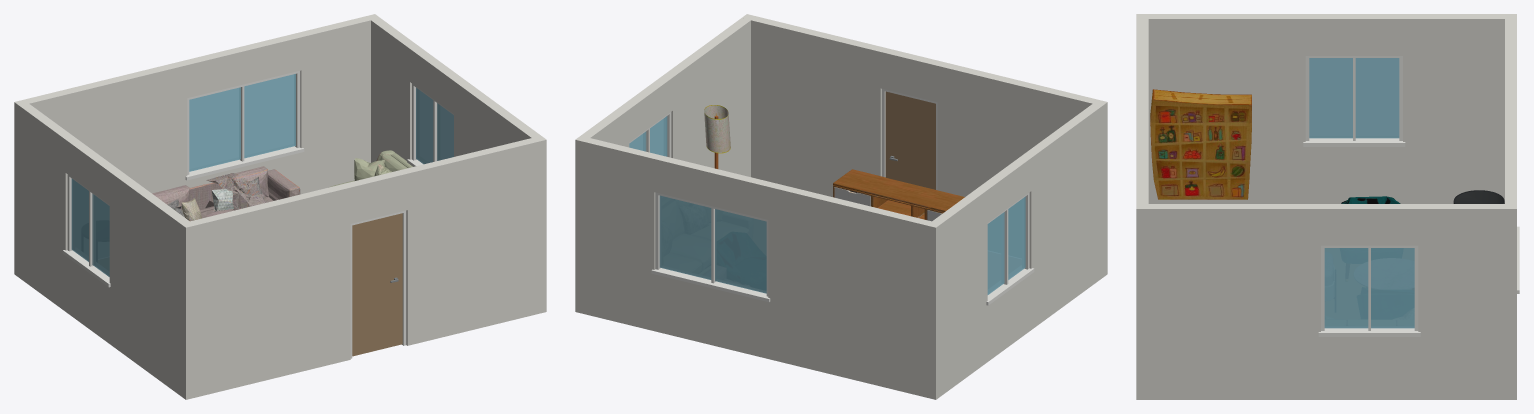
File: holodeck.glb
3 views of the same model, side by side, from view 1: azimuth 30°, elevation 25°; view 2: azimuth 150°, elevation 25°; view 3: azimuth 270°, elevation 25° (orthographic). The views are drawn at different scales.
Visible parts, largest first — view 1: wall|scenesmith_010__R00|0, wall|scenesmith_010__R00|1, wall|scenesmith_010__R00|2, wall|scenesmith_010__R00|3, wall|scenesmith_010__R00|1 Window 0 | glazing, wall|scenesmith_010__R00|0 Door 0 | wood leaf, scenesmith_010__R00_0, wall|scenesmith_010__R00|2 Window 0 | glazing, wall|scenesmith_010__R00|1 Window 0 | jamb, wall|scenesmith_010__R00|3 Window 0 | glazing, wall|scenesmith_010__R00|2 Window 0 | jamb, wall|scenesmith_010__R00|0 Door 0 | jamb (+2 smaller); view 2: wall|scenesmith_010__R00|1, wall|scenesmith_010__R00|0, wall|scenesmith_010__R00|2, wall|scenesmith_010__R00|3, wall|scenesmith_010__R00|1 Window 0 | glazing, wall|scenesmith_010__R00|0 Door 0 | wood leaf, scenesmith_010__R00_3, wall|scenesmith_010__R00|2 Window 0 | glazing, wall|scenesmith_010__R00|1 Window 0 | jamb, wall|scenesmith_010__R00|2 Window 0 | jamb, scenesmith_010__R00_8, wall|scenesmith_010__R00|3 Window 0 | glazing (+1 smaller); view 3: wall|scenesmith_010__R00|3, wall|scenesmith_010__R00|2, scenesmith_010__R00_9, wall|scenesmith_010__R00|2 Window 0 | glazing, wall|scenesmith_010__R00|3 Window 0 | glazing, wall|scenesmith_010__R00|0, wall|scenesmith_010__R00|1, wall|scenesmith_010__R00|3 Window 0 | jamb, wall|scenesmith_010__R00|2 Window 0 | jamb, solid, scenesmith_010__R00_5.
Boxes of the visible parts, x1,y1,x2,y2 form: wall|scenesmith_010__R00|0: (180,136,546,399); wall|scenesmith_010__R00|1: (14,14,379,277); wall|scenesmith_010__R00|2: (18,100,195,399); wall|scenesmith_010__R00|3: (368,14,546,313); wall|scenesmith_010__R00|1 Window 0 | glazing: (189,74,295,171); wall|scenesmith_010__R00|0 Door 0 | wood leaf: (352,213,402,356); scenesmith_010__R00_0: (152,166,300,221); wall|scenesmith_010__R00|2 Window 0 | glazing: (71,178,109,276); wall|scenesmith_010__R00|1 Window 0 | jamb: (185,71,304,180); wall|scenesmith_010__R00|3 Window 0 | glazing: (416,88,453,164); wall|scenesmith_010__R00|2 Window 0 | jamb: (62,174,110,287); wall|scenesmith_010__R00|0 Door 0 | jamb: (350,210,406,358); wall|scenesmith_010__R00|1: (584,138,941,399); wall|scenesmith_010__R00|0: (742,14,1107,277); wall|scenesmith_010__R00|2: (926,104,1102,399); wall|scenesmith_010__R00|3: (575,18,750,313); wall|scenesmith_010__R00|1 Window 0 | glazing: (659,195,766,293); wall|scenesmith_010__R00|0 Door 0 | wood leaf: (885,91,935,189); scenesmith_010__R00_3: (833,169,964,221); wall|scenesmith_010__R00|2 Window 0 | glazing: (987,196,1025,294); wall|scenesmith_010__R00|1 Window 0 | jamb: (651,192,770,301); wall|scenesmith_010__R00|2 Window 0 | jamb: (986,192,1034,305); scenesmith_010__R00_8: (704,105,730,168); wall|scenesmith_010__R00|3 Window 0 | glazing: (629,116,667,156); wall|scenesmith_010__R00|3: (1148,204,1516,399); wall|scenesmith_010__R00|2: (1148,14,1516,203); scenesmith_010__R00_9: (1150,89,1251,199); wall|scenesmith_010__R00|2 Window 0 | glazing: (1309,58,1399,138); wall|scenesmith_010__R00|3 Window 0 | glazing: (1324,248,1414,328); wall|scenesmith_010__R00|0: (1136,14,1148,399); wall|scenesmith_010__R00|1: (1505,14,1516,399); wall|scenesmith_010__R00|3 Window 0 | jamb: (1318,245,1420,336); wall|scenesmith_010__R00|2 Window 0 | jamb: (1303,56,1405,146); solid: (1453,190,1504,203); scenesmith_010__R00_5: (1341,196,1400,203).
Bounding box in the file's own units: 5.76 × 2.61 × 4.73.
15 materials, 9 textured.
